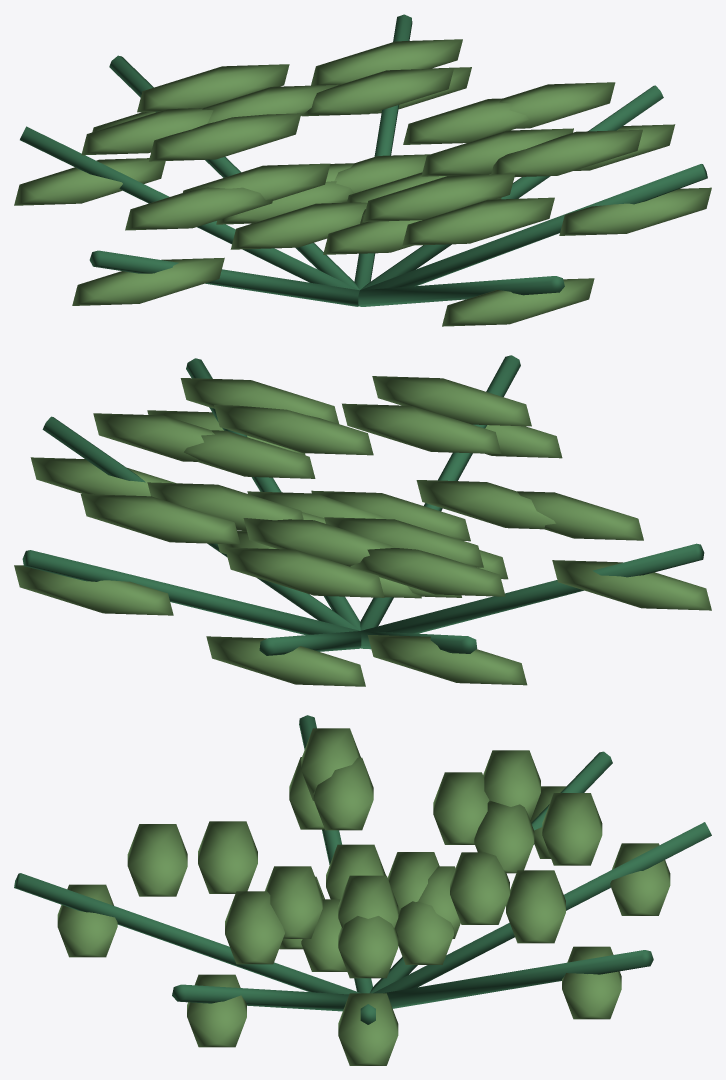
The model's file is fern.glb.
3 renders of one model, top to bottom at view 1: azimuth 30°, elevation 25°; view 2: azimuth 150°, elevation 25°; view 3: azimuth 270°, elevation 25°, orthographic. The views are drawn at different scales.
Parts seen in each view (by area): view 1: fern; view 2: fern; view 3: fern.
Boxes of the visible parts, x1,y1,x2,y2 form: fern: (14,14,711,326); fern: (14,355,711,686); fern: (14,715,711,1065).
Bounding box in the file's own units: 2.94 × 0.7529 × 2.77.
